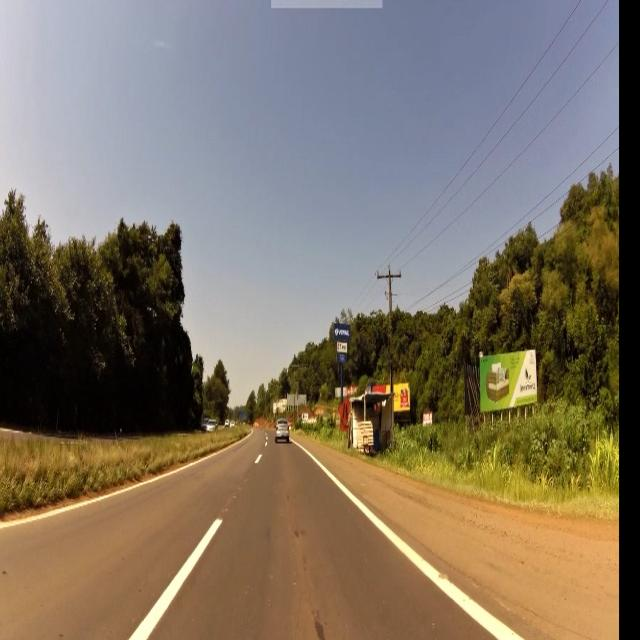A-21e: (340, 396, 352, 428)
